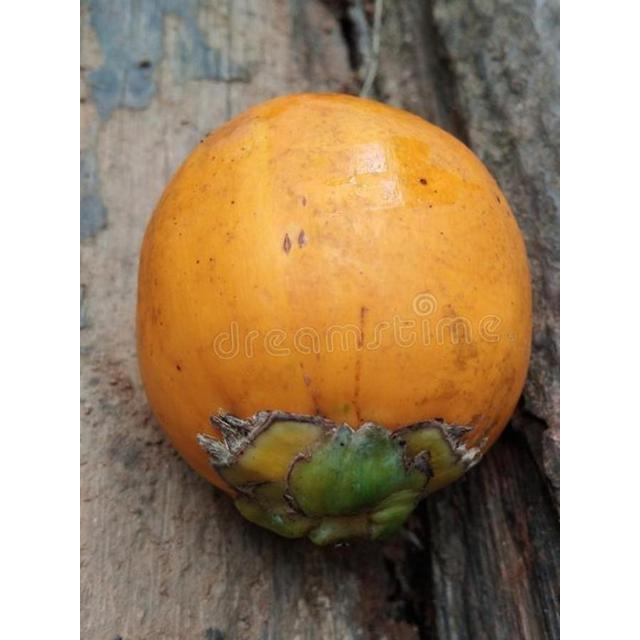good: (135, 93, 534, 550)
